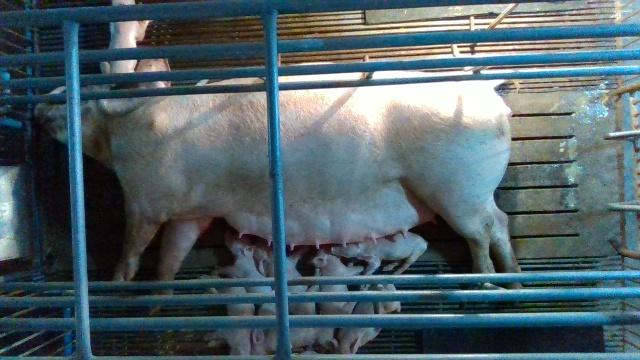piglet: (211, 231, 275, 315), (328, 283, 403, 354), (255, 240, 322, 315), (196, 274, 252, 355), (329, 232, 429, 275), (99, 1, 155, 72), (312, 247, 363, 313), (253, 328, 340, 354)
sow-sleep-lactate: (33, 58, 525, 315)
